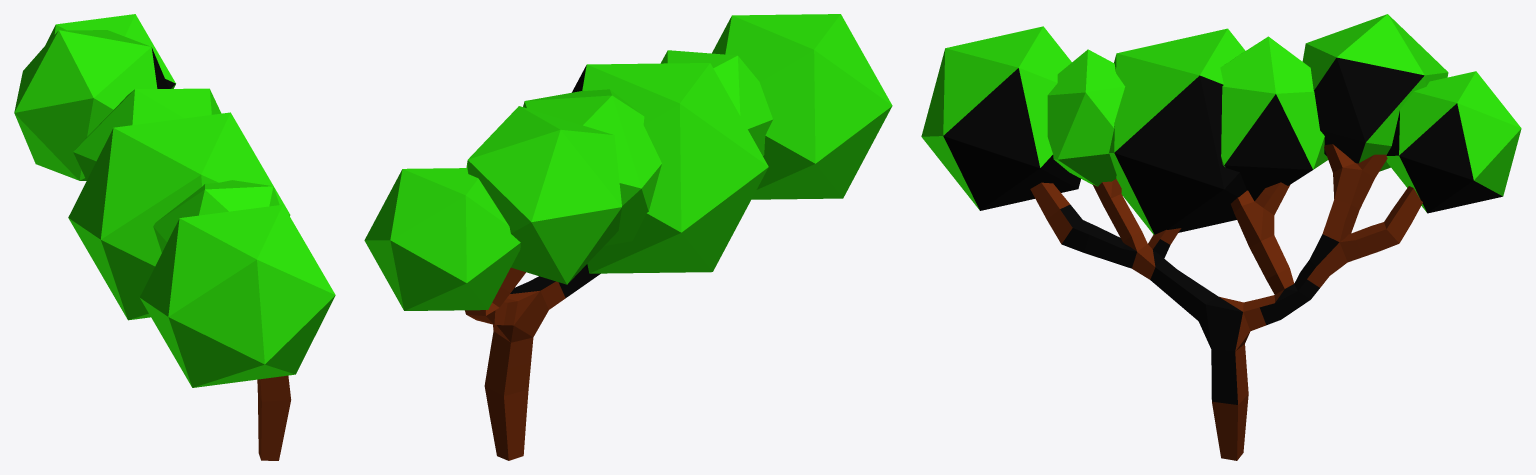
The model's file is arvore 2.fbx.
3 renders of one model, left to right at view 1: azimuth 30°, elevation 25°; view 2: azimuth 150°, elevation 25°; view 3: azimuth 270°, elevation 25°, orthographic. The views are drawn at different scales.
Visible parts, largest first — view 1: Icosphere.005, Icosphere.003, Icosphere.001, Icosphere.002, Icosphere, Plane, Icosphere.004; view 2: Icosphere.003, Icosphere.005, Icosphere.001, Icosphere.004, Plane, Icosphere.002, Icosphere; view 3: Plane, Icosphere.003, Icosphere.005, Icosphere.004, Icosphere.001, Icosphere.002, Icosphere.
Part boxes in pixels (left/top/right/bottom): Icosphere.005: left=139, top=204, right=335, bottom=387; Icosphere.003: left=68, top=112, right=290, bottom=320; Icosphere.001: left=14, top=30, right=168, bottom=180; Icosphere.002: left=73, top=88, right=221, bottom=180; Icosphere: left=153, top=180, right=279, bottom=252; Plane: left=257, top=375, right=291, bottom=460; Icosphere.004: left=45, top=14, right=175, bottom=88; Icosphere.003: left=572, top=63, right=768, bottom=273; Icosphere.005: left=712, top=14, right=892, bottom=199; Icosphere.001: left=466, top=106, right=621, bottom=284; Icosphere.004: left=364, top=168, right=520, bottom=310; Plane: left=465, top=266, right=600, bottom=460; Icosphere.002: left=523, top=89, right=661, bottom=245; Icosphere: left=660, top=50, right=772, bottom=156; Plane: left=1030, top=144, right=1422, bottom=460; Icosphere.003: left=1109, top=28, right=1246, bottom=234; Icosphere.005: left=921, top=26, right=1080, bottom=210; Icosphere.004: left=1386, top=71, right=1521, bottom=213; Icosphere.001: left=1302, top=14, right=1448, bottom=171; Icosphere.002: left=1220, top=36, right=1328, bottom=201; Icosphere: left=1047, top=49, right=1125, bottom=186.
Bounding box in the file's own units: 695 × 1053 × 1499.
